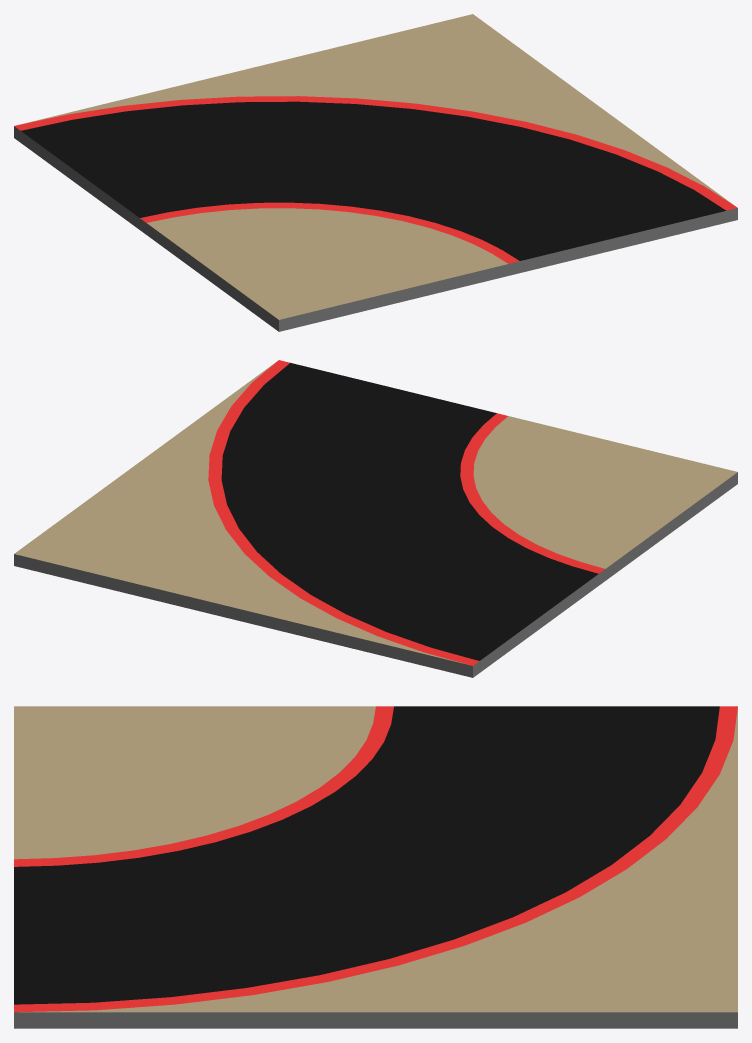
Rendered from Streckenmodul_-_Kurve_2x2.fbx.
3 views of the same model, one above another, from view 1: azimuth 30°, elevation 25°; view 2: azimuth 150°, elevation 25°; view 3: azimuth 270°, elevation 25° (orthographic). The views are drawn at different scales.
Visible parts, largest first — view 1: Streckenmodul - Kurve 2x2; view 2: Streckenmodul - Kurve 2x2; view 3: Streckenmodul - Kurve 2x2.
Part boxes in pixels (bbox=[...]): Streckenmodul - Kurve 2x2: bbox=[14, 14, 737, 331]; Streckenmodul - Kurve 2x2: bbox=[14, 360, 737, 677]; Streckenmodul - Kurve 2x2: bbox=[14, 706, 737, 1028].
Size of the model in its own units: 787 by 19.69 by 787.
